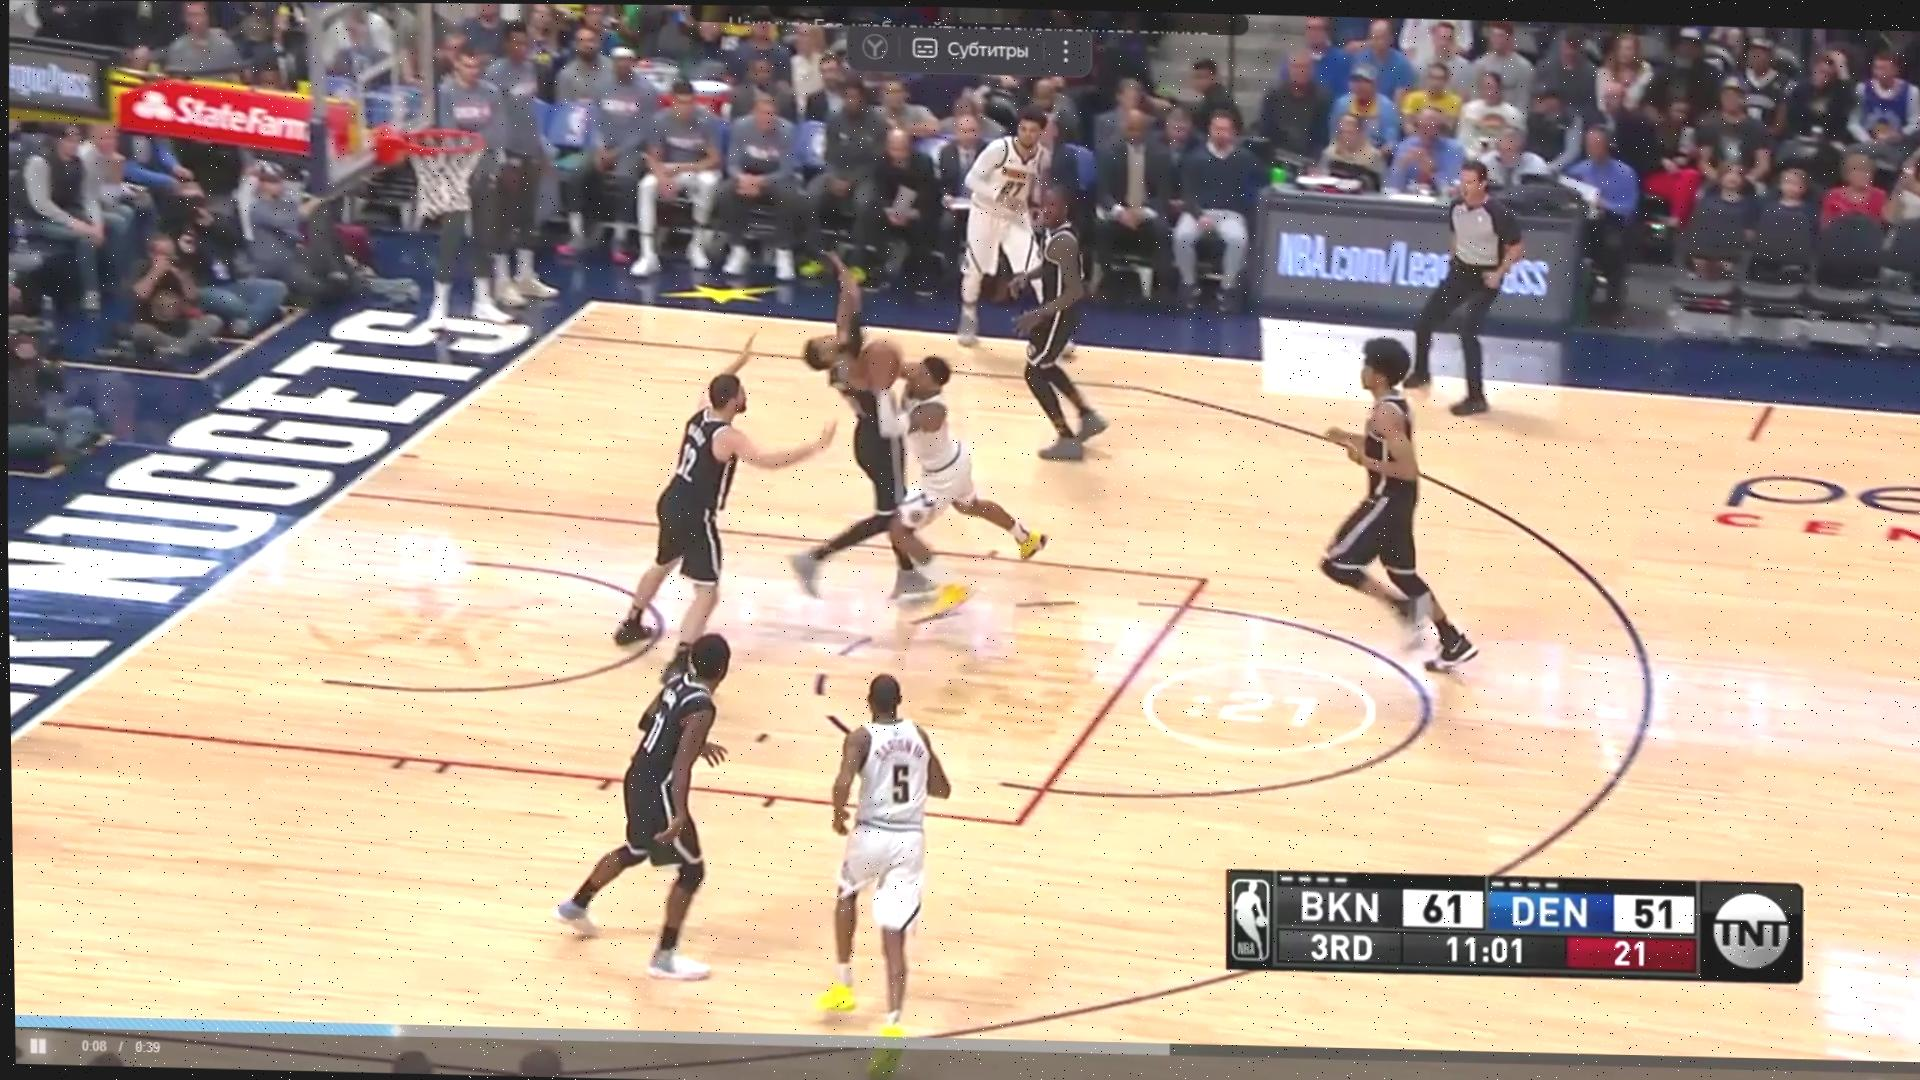foul: (783, 306, 1044, 605)
